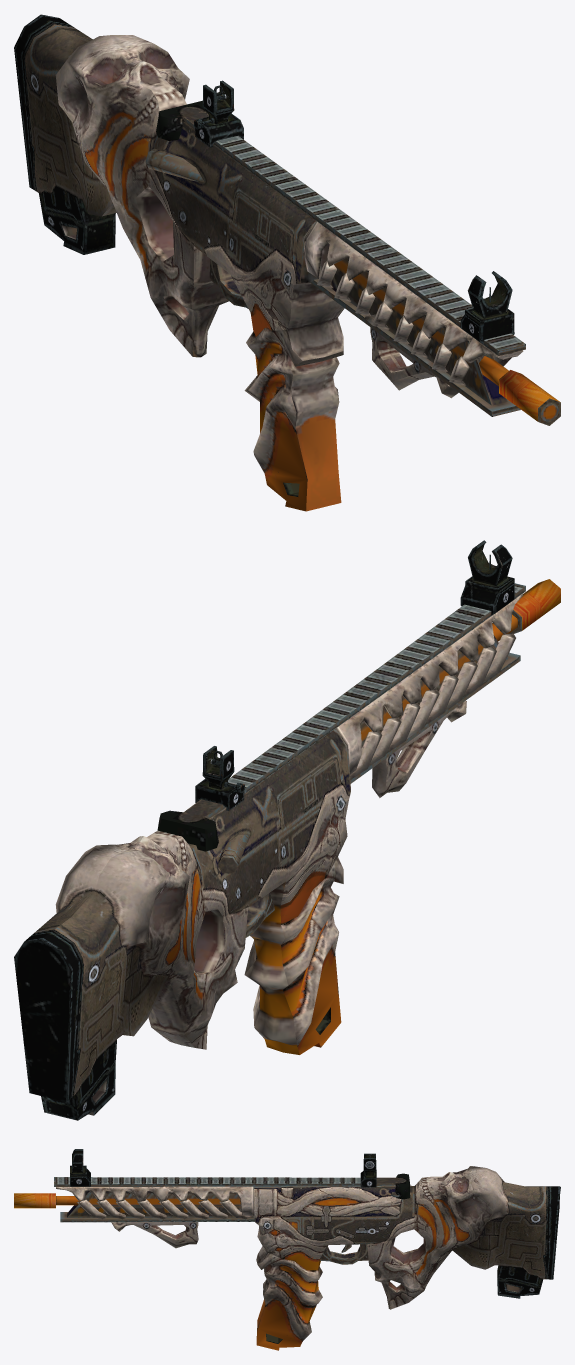
The model's file is Assault_Rifle_bq_qs_01_gulong_BoneDragon_Skin_Body_Main_(000642).glb.
The picture shows the model from 3 angles, top to bottom: view 1: azimuth 30°, elevation 25°; view 2: azimuth 150°, elevation 25°; view 3: azimuth 270°, elevation 25°; orthographic projection. The views are drawn at different scales.
Parts seen in each view (by area): view 1: bq_qs_01_gulong; view 2: bq_qs_01_gulong; view 3: bq_qs_01_gulong.
Part boxes in pixels (left/top/right/bottom): bq_qs_01_gulong: left=14, top=14, right=560, bottom=511; bq_qs_01_gulong: left=14, top=540, right=560, bottom=1120; bq_qs_01_gulong: left=14, top=1149, right=560, bottom=1350.
Bounding box in the file's own units: 0.0957 × 0.3506 × 0.8927.
1 material, 1 textured.
